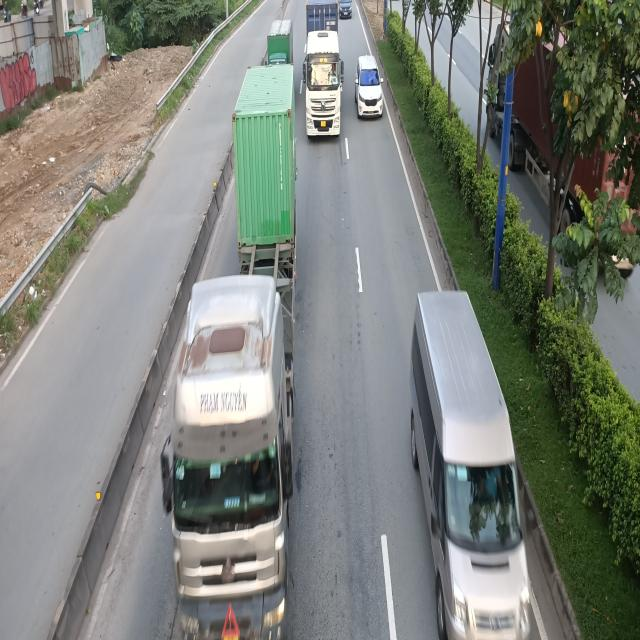car: (354, 56, 383, 120)
container: (165, 58, 301, 640), (301, 2, 343, 139)
van: (410, 292, 528, 640)
